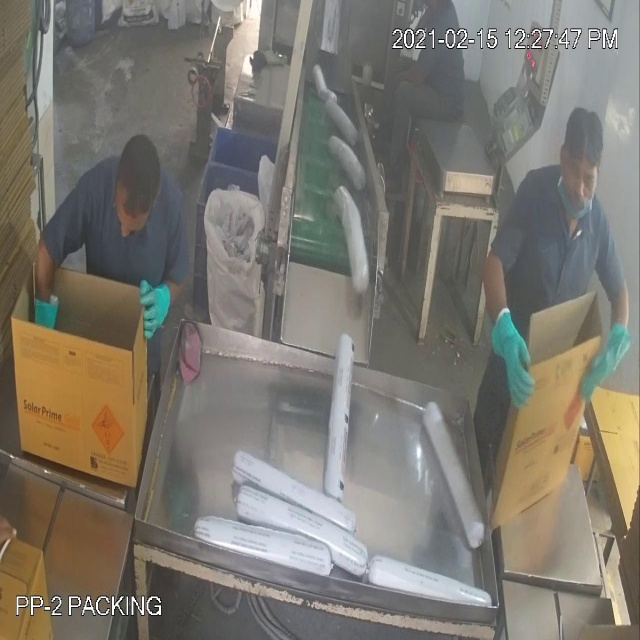Guantes: (479, 246, 543, 430), (574, 281, 634, 414), (121, 260, 185, 361)
